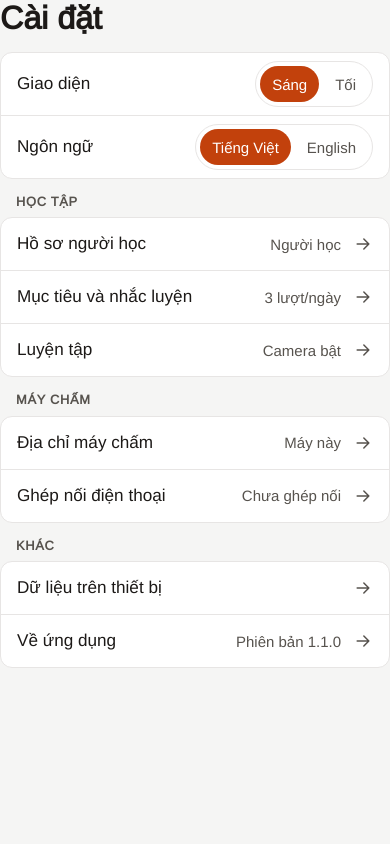
Scenario: SettingsScreen › shows the failure message when the code is rejected
Click the button "Ghép nối điện thoại Chưa ghép nối" at (91, 495), box [1,470,389,522]
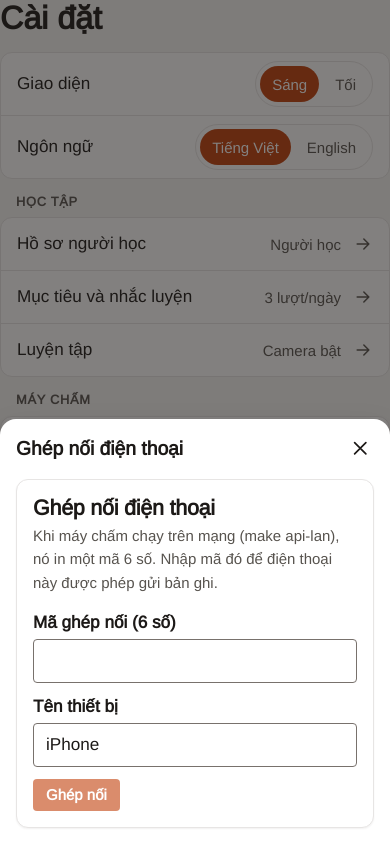
Type "000000" into the field labelled "Mã ghép nối (6 số)" at (195, 661), box [33,639,357,683]
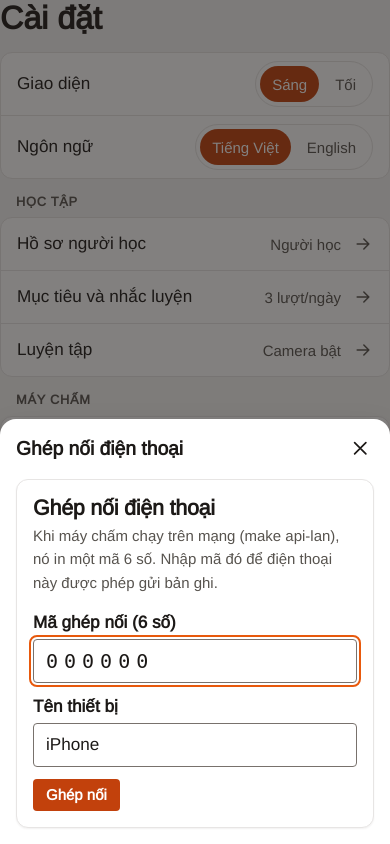
Click the button "Ghép nối" at (76, 795), box [33,779,120,811]
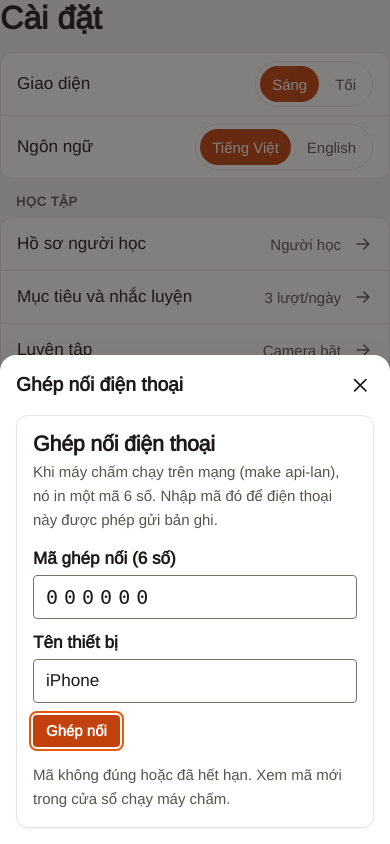
Now the text "Mã không đúng hoặc đã hết hạn. Xem mã mới trong cửa sổ chạy máy chấm." is shown, box [33,763,357,811]
